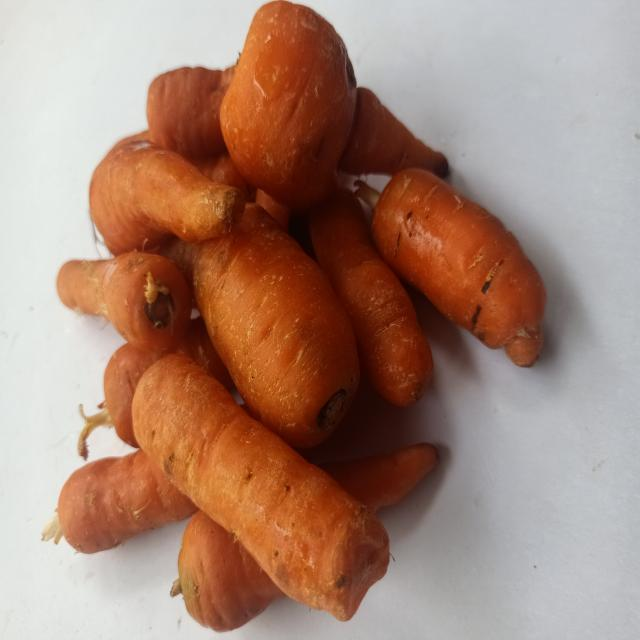Carrot: (132, 354, 390, 621), (168, 204, 360, 447), (373, 167, 546, 348), (309, 188, 434, 406), (88, 134, 245, 255), (56, 252, 192, 350)
